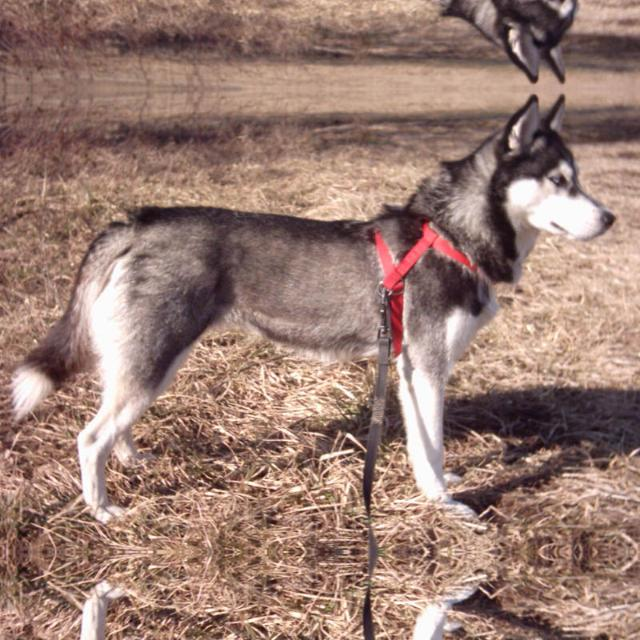dog: (47, 115, 596, 527), (46, 575, 595, 640), (46, 0, 595, 61)
